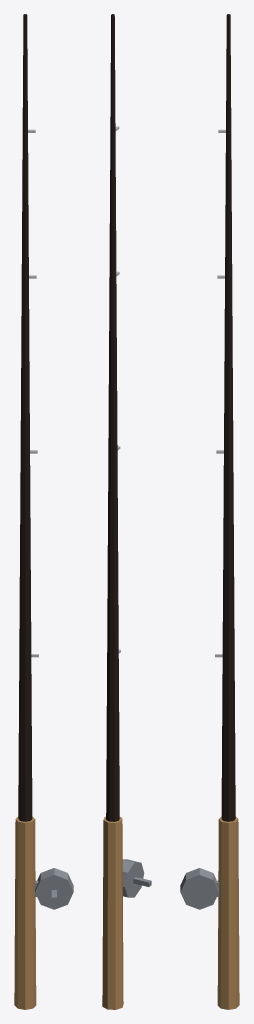
File: tool_rod.obj
3 renders of one model, left to right at view 1: azimuth 90°, elevation 25°; view 2: azimuth 150°, elevation 25°; view 3: azimuth 270°, elevation 25°, orthographic.
Visible parts, largest first — view 1: tool_rod; view 2: tool_rod; view 3: tool_rod.
Part boxes in pixels (x1,y1,x2,y2): tool_rod: [14, 14, 73, 1009]; tool_rod: [102, 14, 151, 1009]; tool_rod: [180, 14, 239, 1009].
Bounding box in the file's own units: 0.058 × 1.7 × 0.092.
